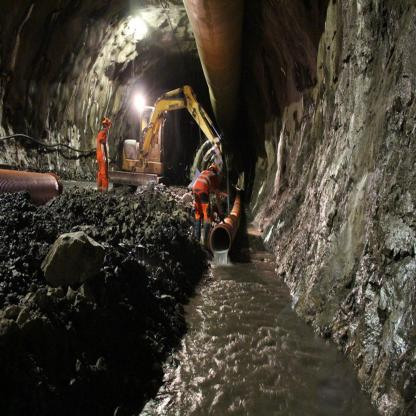excavator: (115, 69, 228, 204)
person: (188, 159, 226, 252), (93, 113, 114, 197)
